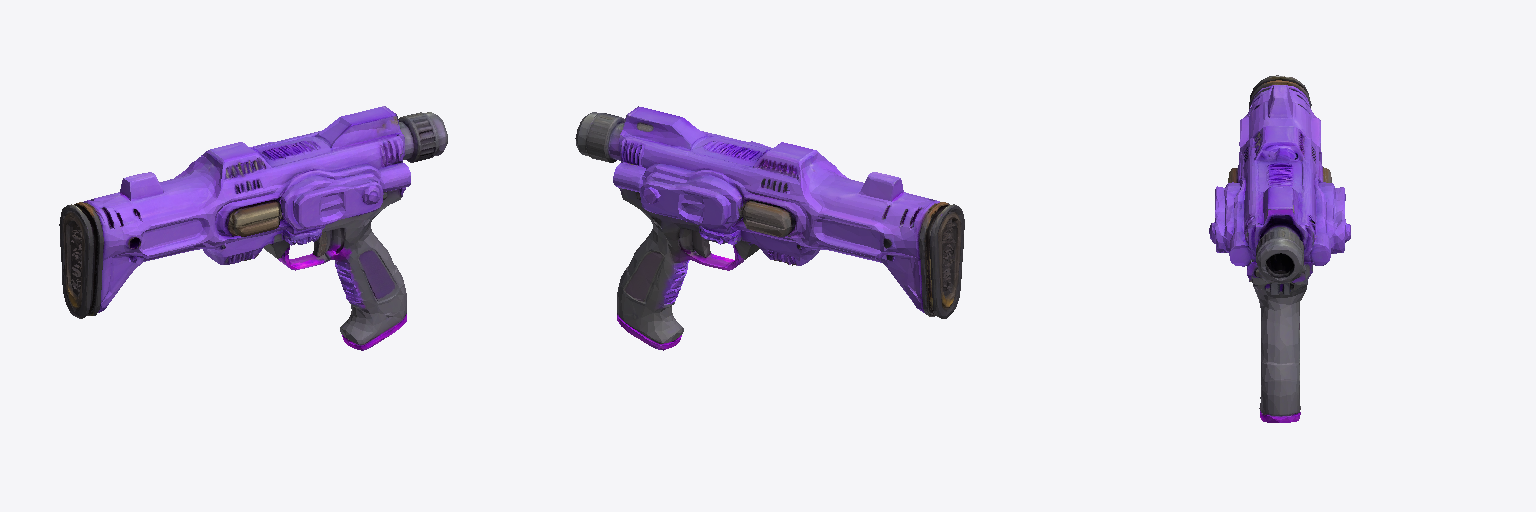
3 renders of one model, left to right at view 1: azimuth 30°, elevation 25°; view 2: azimuth 150°, elevation 25°; view 3: azimuth 270°, elevation 25°, orthographic.
Parts seen in each view (by area): view 1: render_me_a_vacuum_ty_[number redacted]_texture; view 2: render_me_a_vacuum_ty_[number redacted]_texture; view 3: render_me_a_vacuum_ty_[number redacted]_texture.
Part boxes in pixels (x1,y1,x2,y2): render_me_a_vacuum_ty_[number redacted]_texture: (59, 106, 447, 350); render_me_a_vacuum_ty_[number redacted]_texture: (575, 106, 964, 350); render_me_a_vacuum_ty_[number redacted]_texture: (1209, 75, 1350, 422).
Bounding box in the file's own units: 2 × 1.18 × 0.6724.
Materials: 1 (1 with a texture image).